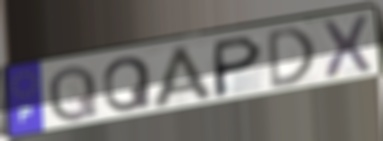A: (150, 43, 218, 112)
D: (266, 24, 317, 92)
P: (210, 33, 265, 100)
Q: (47, 63, 100, 124), (102, 55, 154, 115)
X: (319, 13, 375, 83)
